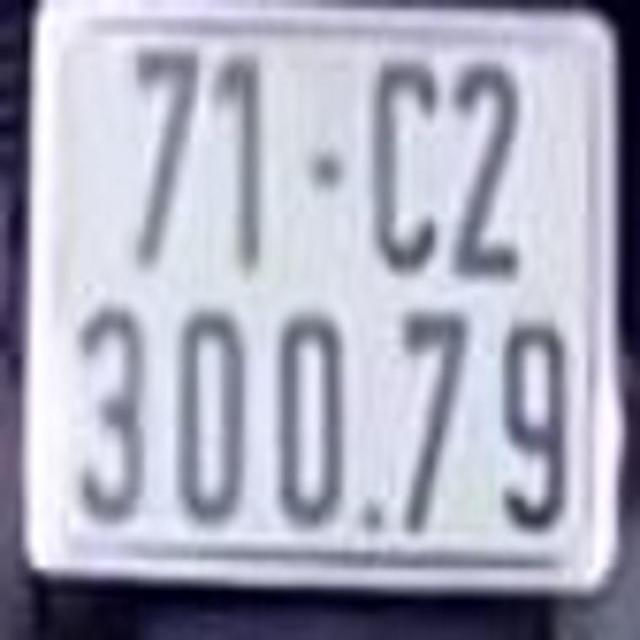0: (169, 306, 247, 520), (272, 306, 347, 525)
1: (208, 45, 269, 280)
2: (449, 56, 524, 280)
3: (72, 306, 148, 516)
7: (394, 301, 467, 536), (127, 36, 197, 271)
9: (500, 312, 568, 533)
C: (364, 49, 442, 274)
